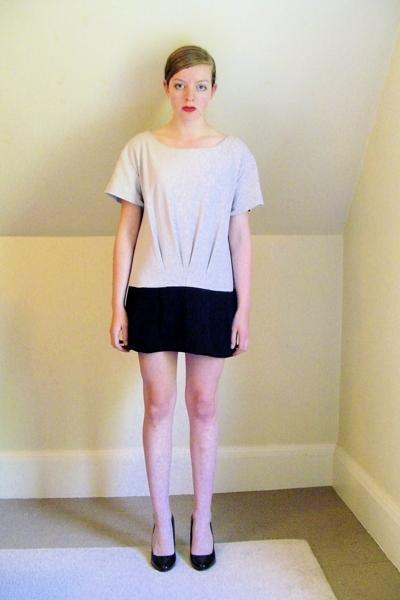shirt: (108, 134, 262, 291)
shoe: (151, 540, 215, 571)
